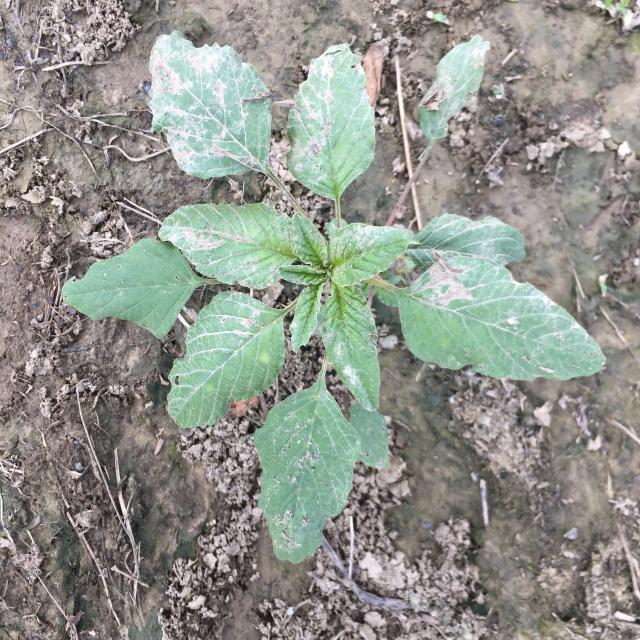PalmerAmaranth: (62, 31, 607, 566)
